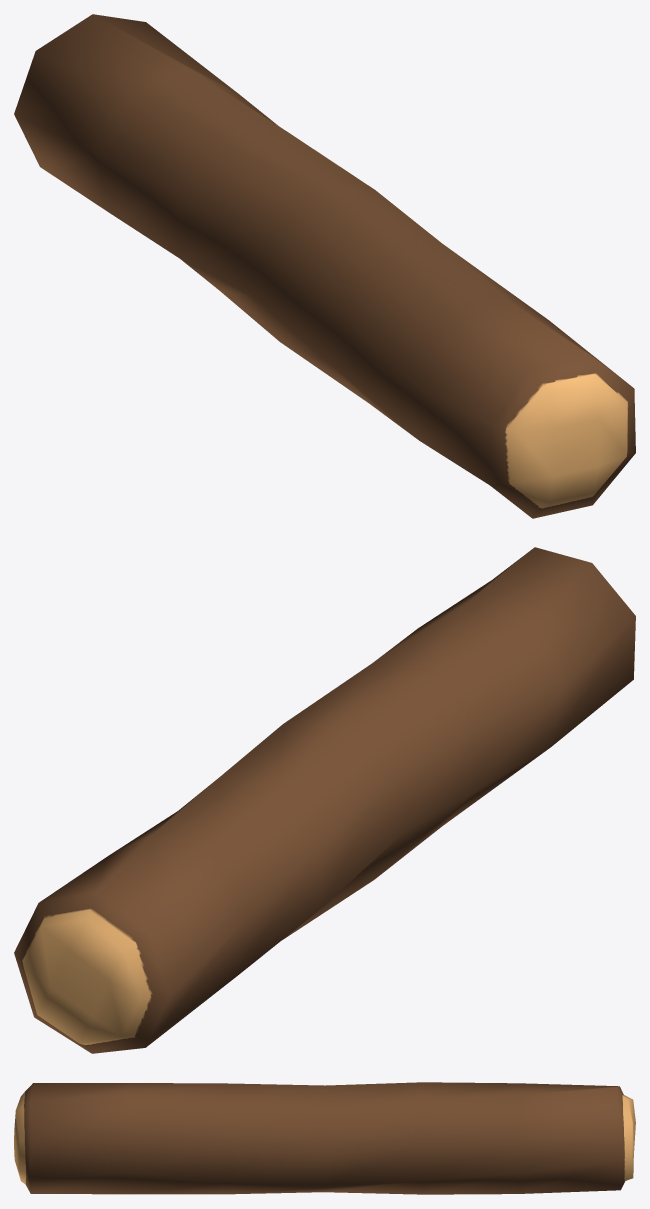
File: Log.fbx
3 views of the same model, one above another, from view 1: azimuth 30°, elevation 25°; view 2: azimuth 150°, elevation 25°; view 3: azimuth 270°, elevation 25° (orthographic). The views are drawn at different scales.
Parts seen in each view (by area): view 1: Log; view 2: Log; view 3: Log.
Part boxes in pixels (x1,y1,x2,y2): Log: [14, 14, 635, 518]; Log: [14, 547, 635, 1053]; Log: [14, 1082, 635, 1194].
Size of the model in its own units: 68.8 by 69.03 by 382.
